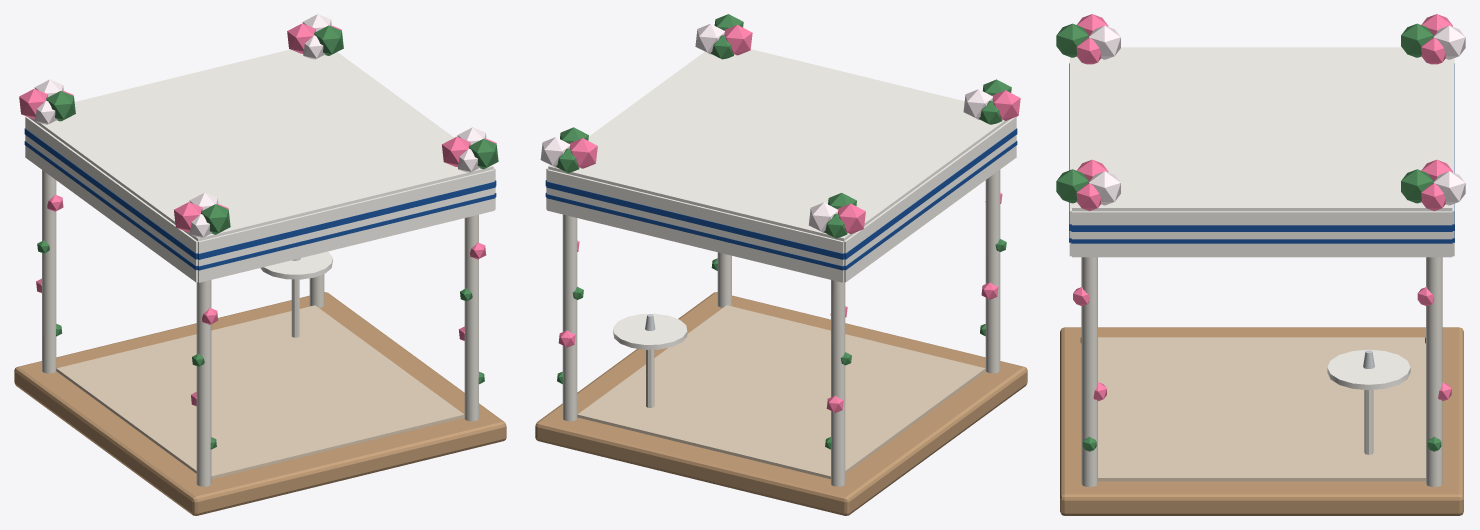
The model's file is foot_chuppah.glb.
3 views of the same model, side by side, from view 1: azimuth 30°, elevation 25°; view 2: azimuth 150°, elevation 25°; view 3: azimuth 270°, elevation 25° (orthographic). The views are drawn at different scales.
Parts seen in each view (by area): view 1: FootChuppah_body; view 2: FootChuppah_body; view 3: FootChuppah_body.
Boxes of the visible parts, x1,y1,x2,y2 form: FootChuppah_body: (14,14,506,515); FootChuppah_body: (535,14,1027,515); FootChuppah_body: (1056,14,1465,515).
Size of the model in its own units: 3.46 by 3.14 by 3.44.
